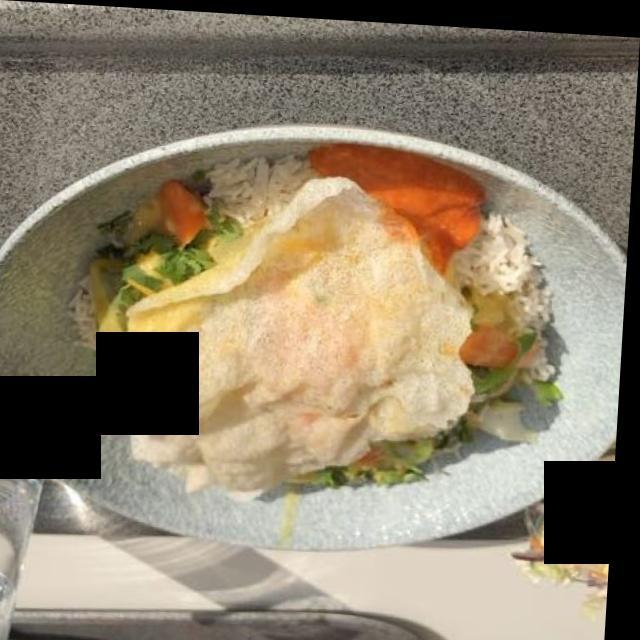carrot: (298, 150, 505, 270)
mixed-vegetables: (59, 159, 545, 483)
rice: (71, 141, 532, 494)
sauce: (68, 137, 545, 495)
